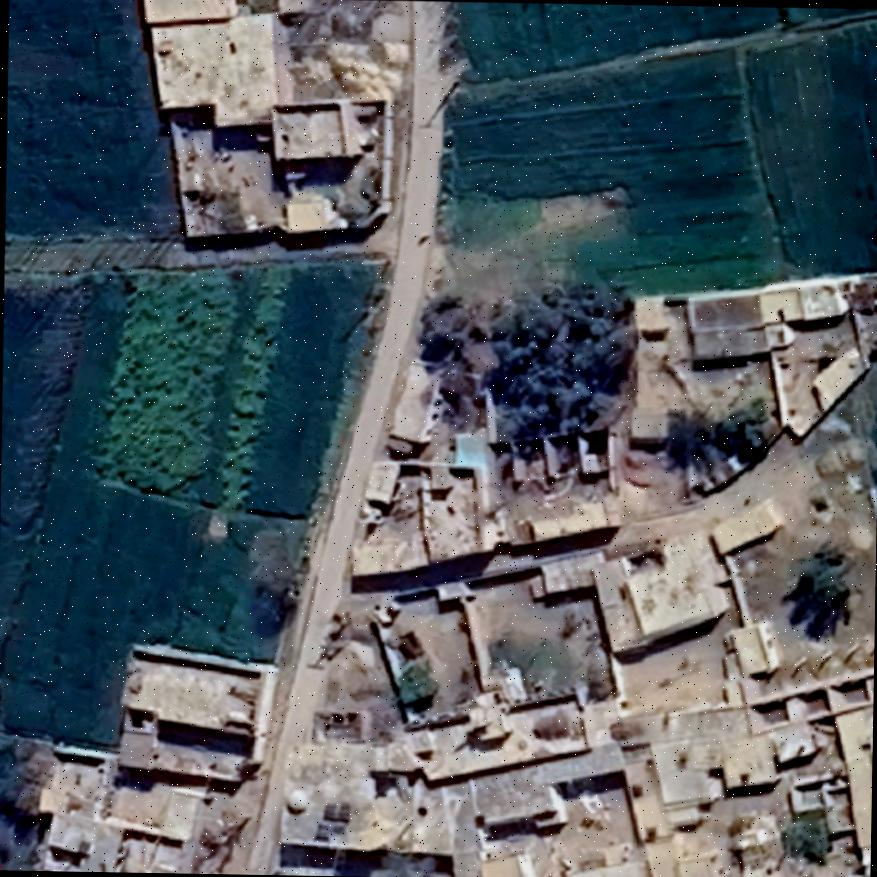Solarpanel: (317, 798, 354, 827)
